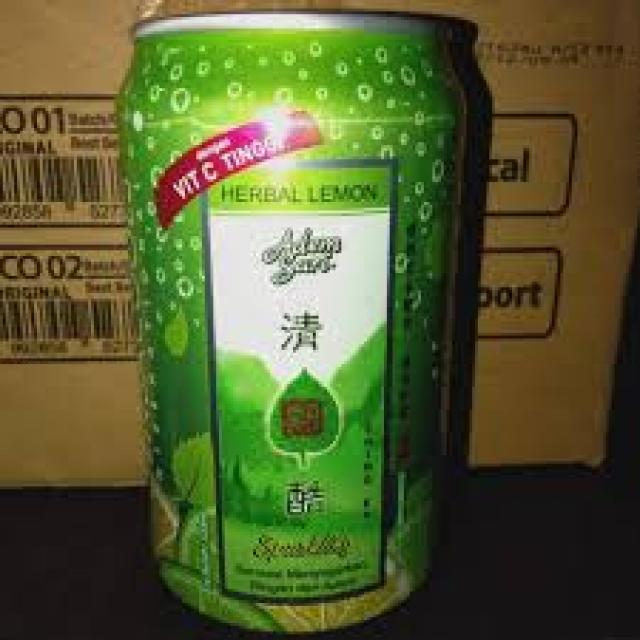ademsarikaleng: (114, 6, 492, 634)
